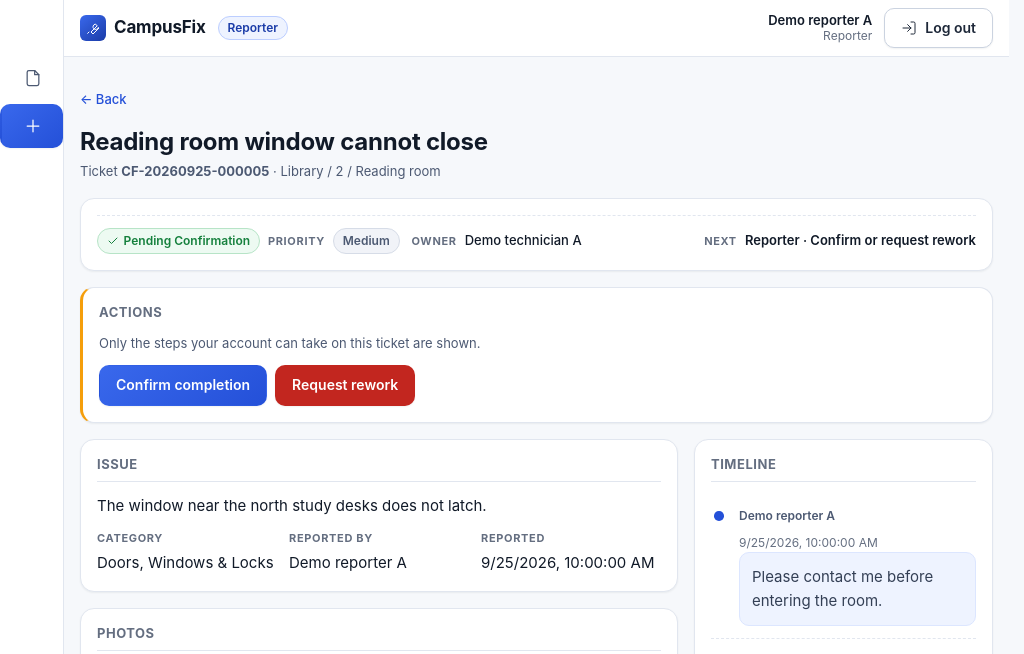
it: ticket detail page (#91) › keeps the rework dialog open when the required reason is empty
Click the button "Request rework" at (345, 386), box [275,365,415,406]
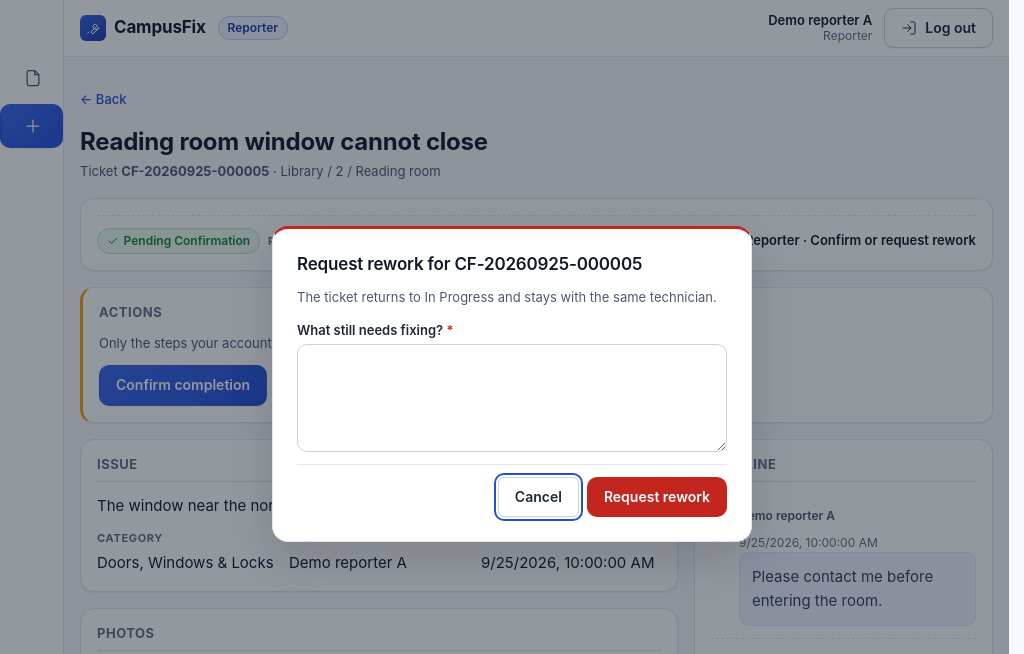
Click the button "Request rework" at (657, 497), box [587,477,727,517]
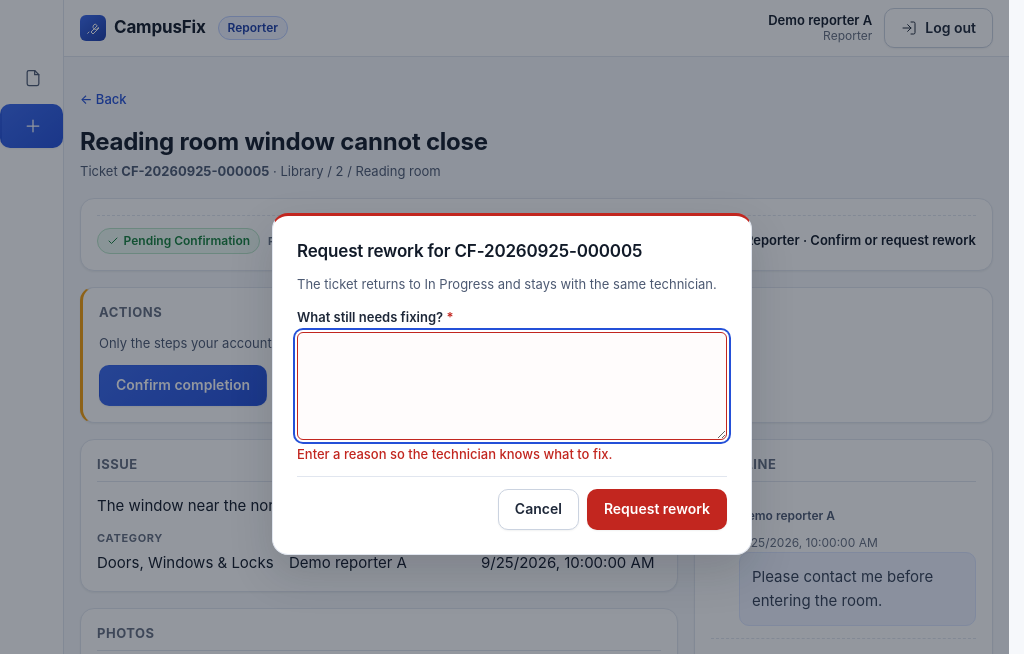
Result: the dialog is shown at [272,213,752,555]
Result: the text "Enter a reason so the technician knows what to fix." is shown at [297,446,612,462]
